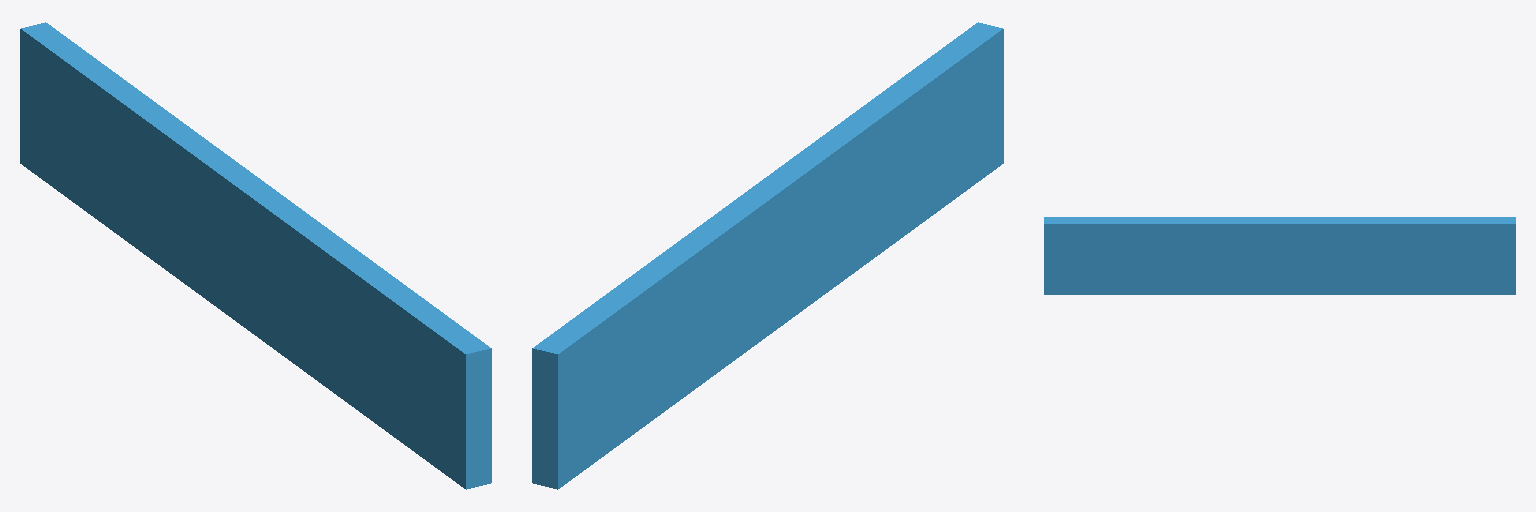
The robot description file, URDF, robot "box_70":
<?xml version="1.0" encoding="utf-8"?>    
    
    <robot name="box_70">
        <link name="box_70">    
            <fem>
                <origin rpy="0.0 0.0 0.0" xyz="0 0 0" />
                <density value="100" />
                <youngs value="4738"/>
                <poissons value="0.3" />
                <damping value="0.0" />
                <attachDistance value="0.01" />
                <tetmesh filename="[local-path]/sim_data/Custom/Custom_mesh/multi_boxes_5kPa/box_70.tet" />
                <scale value="0.5"/>
            </fem>
        </link>

        <link name="fix_frame">
            <visual>
                <origin xyz="-10.090883389558782 0.0 0.0"/>              
                <geometry>
                    <box size="0.005 0.15 0.02511318982546456"/>
                </geometry>
            </visual>
            <collision>
                <origin xyz="-0.09088338955878156 0.0 0.0"/>              
                <geometry>
                    <box size="0.005 0.15 0.02511318982546456"/>
                </geometry>
            </collision>
            <inertial>
                <mass value="500000"/>
                <inertia ixx="0.05" ixy="0.0" ixz="0.0" iyy="0.05" iyz="0.0" izz="0.05"/>
            </inertial>
        </link>
        
        <joint name = "attach" type = "fixed">
            <origin xyz = "0.0 0.0 0.0" rpy = "0 0 0"/>
            <parent link ="box_70"/>
            <child link = "fix_frame"/>
        </joint>  




    </robot>
    

--- Facts derived from the render (not from the file) ---
3 views of the same robot in one strip: view 1: azimuth 30°, elevation 25°; view 2: azimuth 150°, elevation 25°; view 3: azimuth 270°, elevation 25° (orthographic).
Model box_70 with 2 links and 1 joints (1 fixed), rooted at box_70, posed all joints at 0.
Links seen in each view (by area): view 1: fix_frame; view 2: fix_frame; view 3: fix_frame.
Boxes of the visible links, x1,y1,x2,y2 form: fix_frame: [20, 22, 491, 489]; fix_frame: [532, 22, 1003, 489]; fix_frame: [1044, 217, 1515, 294].
Size in the robot's own frame: 0.005 by 0.15 by 0.0251 metres.
Geometry: primitives only (box / cylinder / sphere), no mesh files.